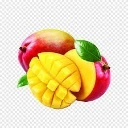mango: (24, 51, 81, 110)
